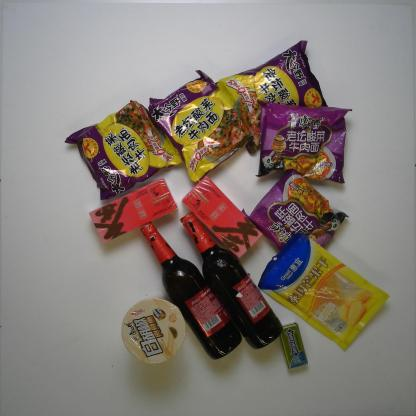Alcohol: (139, 220, 243, 361), (179, 212, 284, 350)
Dried Fruit: (256, 230, 392, 352)
Gum: (278, 321, 310, 370)
Instant Drink: (181, 175, 264, 259), (88, 178, 178, 244)
Instant Noodles: (216, 39, 328, 156), (62, 99, 184, 202), (147, 69, 254, 185), (241, 168, 350, 258), (255, 98, 353, 184), (120, 297, 187, 364)
